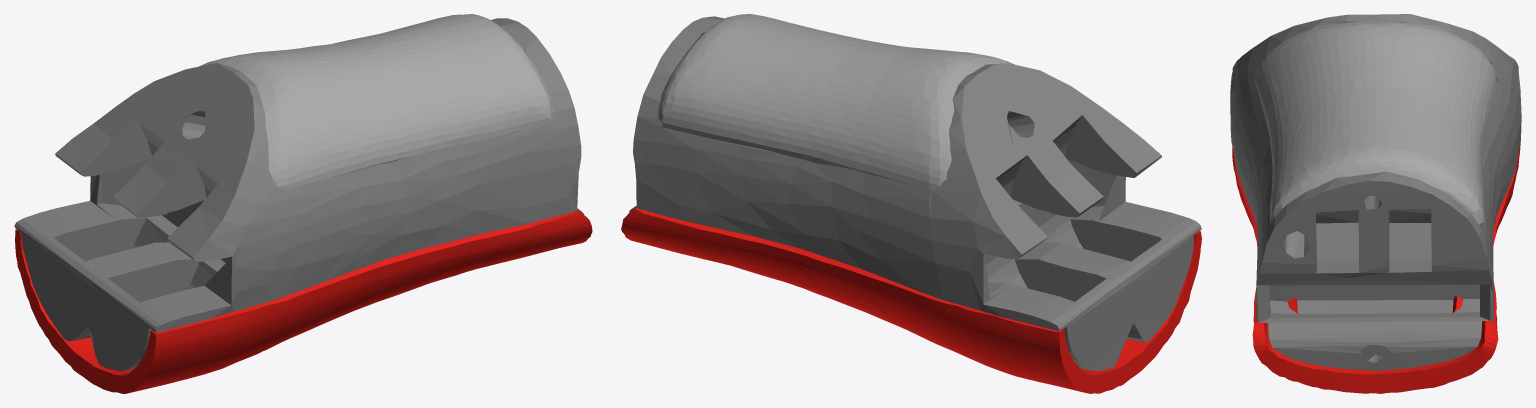
The model's file is Thumb Proximal.dae.
3 renders of one model, left to right at view 1: azimuth 30°, elevation 25°; view 2: azimuth 150°, elevation 25°; view 3: azimuth 270°, elevation 25°, orthographic. The views are drawn at different scales.
Visible parts, largest first — view 1: Thumb_Proximal_Phalanx - reduced, Thumb_Proximal_Pad - reduced, Thumb_Proximal_Cover - reduced; view 2: Thumb_Proximal_Phalanx - reduced, Thumb_Proximal_Pad - reduced, Thumb_Proximal_Cover - reduced; view 3: Thumb_Proximal_Phalanx - reduced, Thumb_Proximal_Pad - reduced, Thumb_Proximal_Cover - reduced.
Boxes of the visible parts, x1=… form: Thumb_Proximal_Phalanx - reduced: x1=14, y1=18, x2=584, y2=371; Thumb_Proximal_Pad - reduced: x1=199, y1=14, x2=554, y2=189; Thumb_Proximal_Cover - reduced: x1=15, y1=210, x2=592, y2=393; Thumb_Proximal_Phalanx - reduced: x1=629, y1=16, x2=1201, y2=370; Thumb_Proximal_Pad - reduced: x1=658, y1=14, x2=1014, y2=190; Thumb_Proximal_Cover - reduced: x1=621, y1=207, x2=1201, y2=393; Thumb_Proximal_Phalanx - reduced: x1=1230, y1=14, x2=1521, y2=370; Thumb_Proximal_Pad - reduced: x1=1255, y1=20, x2=1496, y2=227; Thumb_Proximal_Cover - reduced: x1=1232, y1=143, x2=1520, y2=393.
Bounding box in the file's own units: 0.0413 × 0.0224 × 0.0235.
